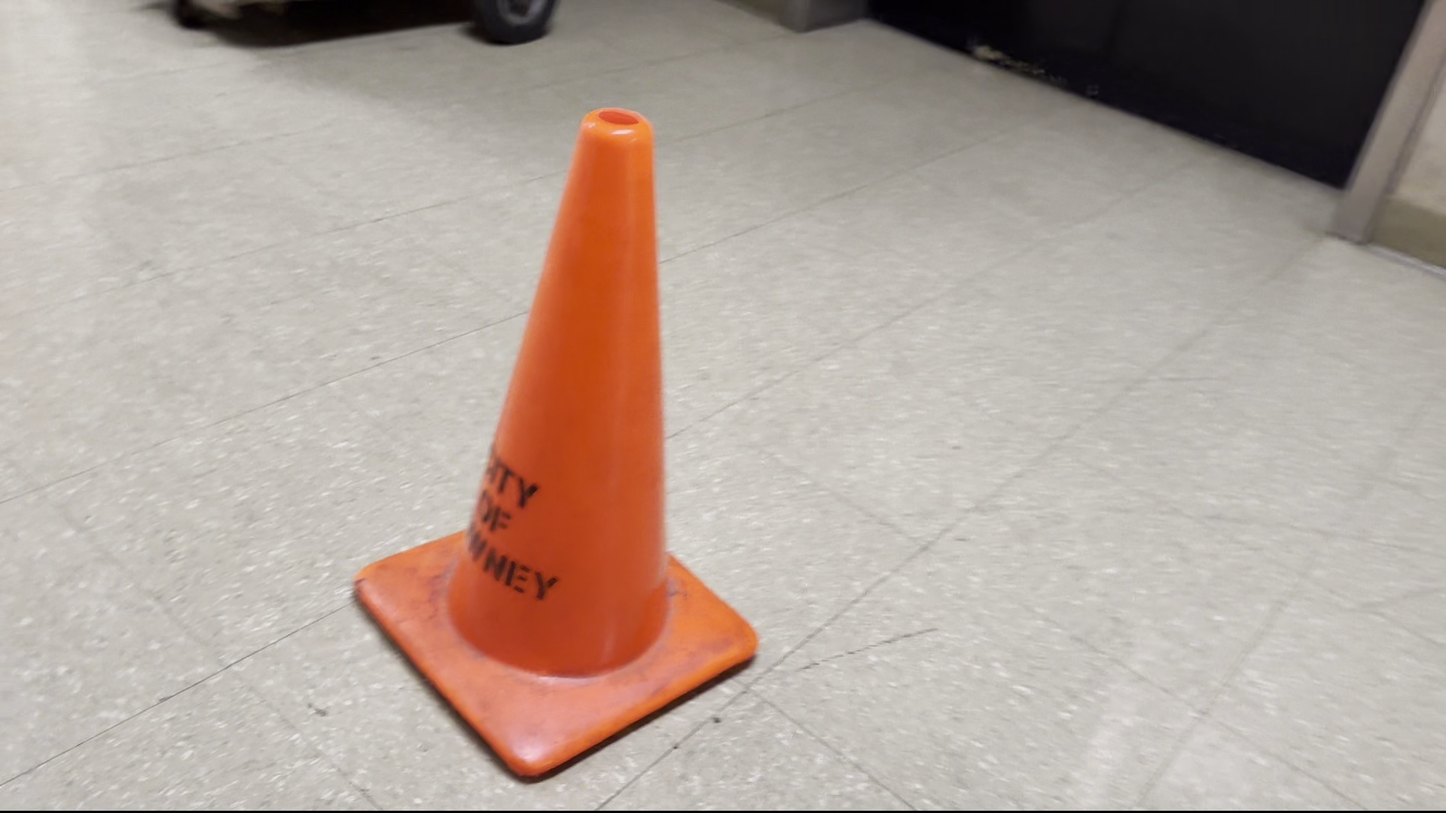traffic_cone: (352, 105, 760, 783)
